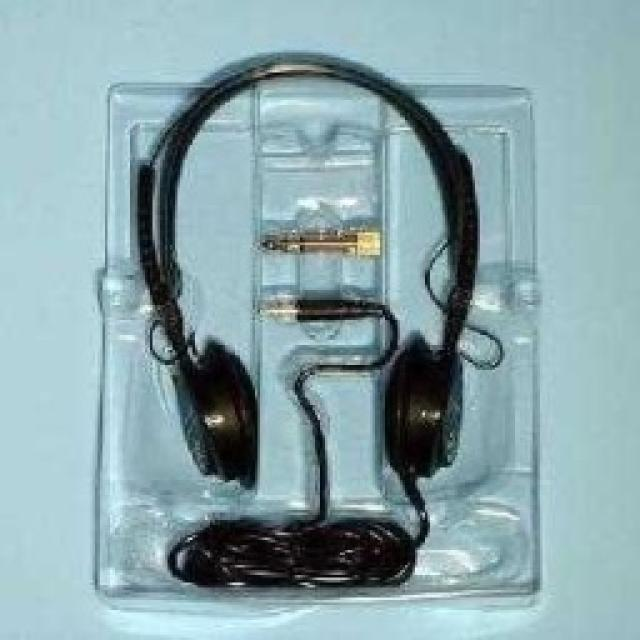kulaklik: (107, 39, 536, 603)
